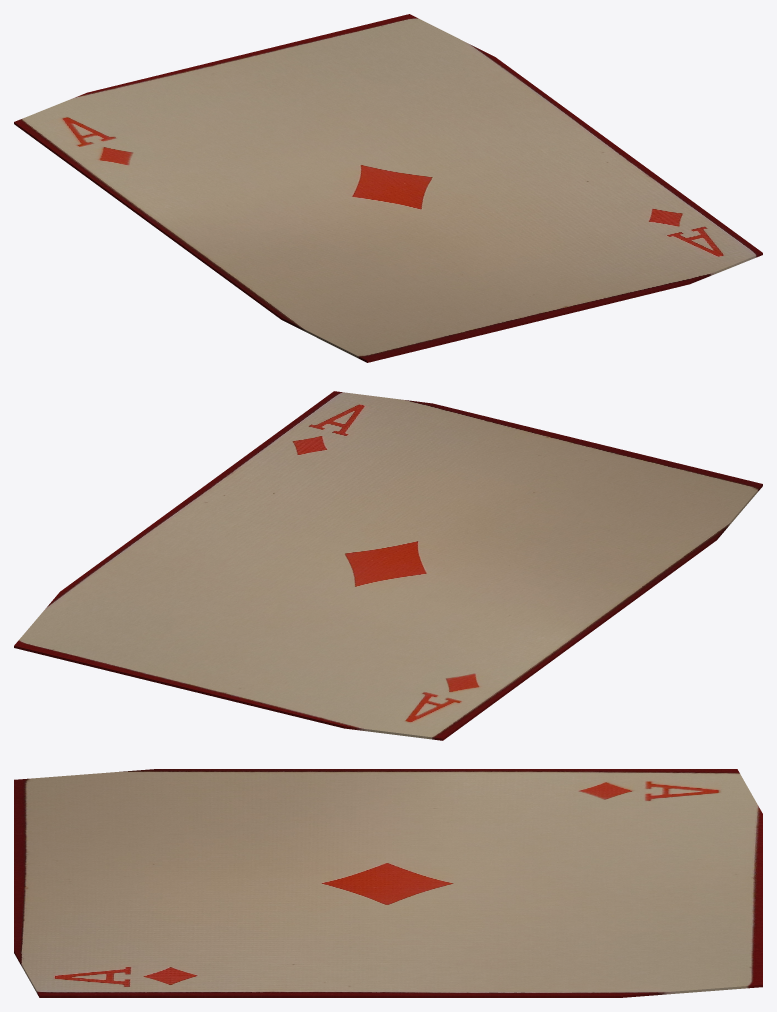
Rendered from Carta_Poker_Normal_As_Diamantes.glb.
The picture shows the model from 3 angles, top to bottom: view 1: azimuth 30°, elevation 25°; view 2: azimuth 150°, elevation 25°; view 3: azimuth 270°, elevation 25°; orthographic projection. The views are drawn at different scales.
Visible parts, largest first — view 1: Carta_Poker_Normal_As_Diamantes; view 2: Carta_Poker_Normal_As_Diamantes; view 3: Carta_Poker_Normal_As_Diamantes.
Boxes of the visible parts, x1,y1,x2,y2 form: Carta_Poker_Normal_As_Diamantes: [14, 14, 762, 362]; Carta_Poker_Normal_As_Diamantes: [14, 391, 762, 740]; Carta_Poker_Normal_As_Diamantes: [14, 769, 762, 997].
Size of the model in its own units: 0.063 by 0.0003 by 0.088.
Materials: 1 (1 with a texture image).
